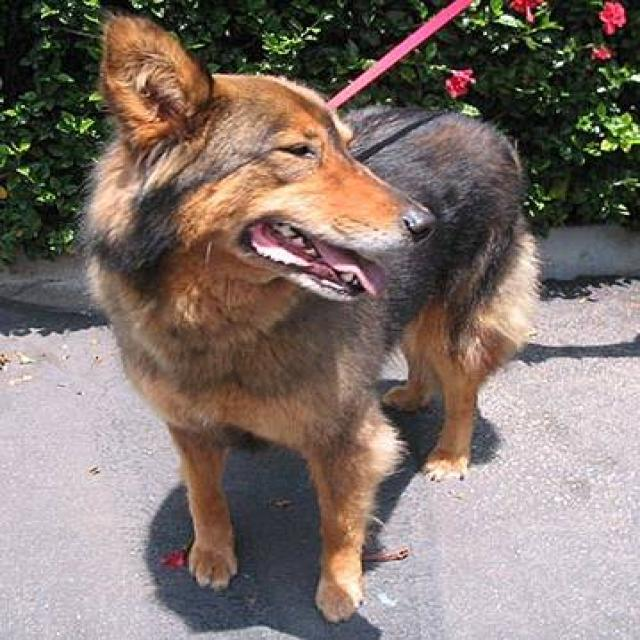dog: (77, 8, 542, 624)
